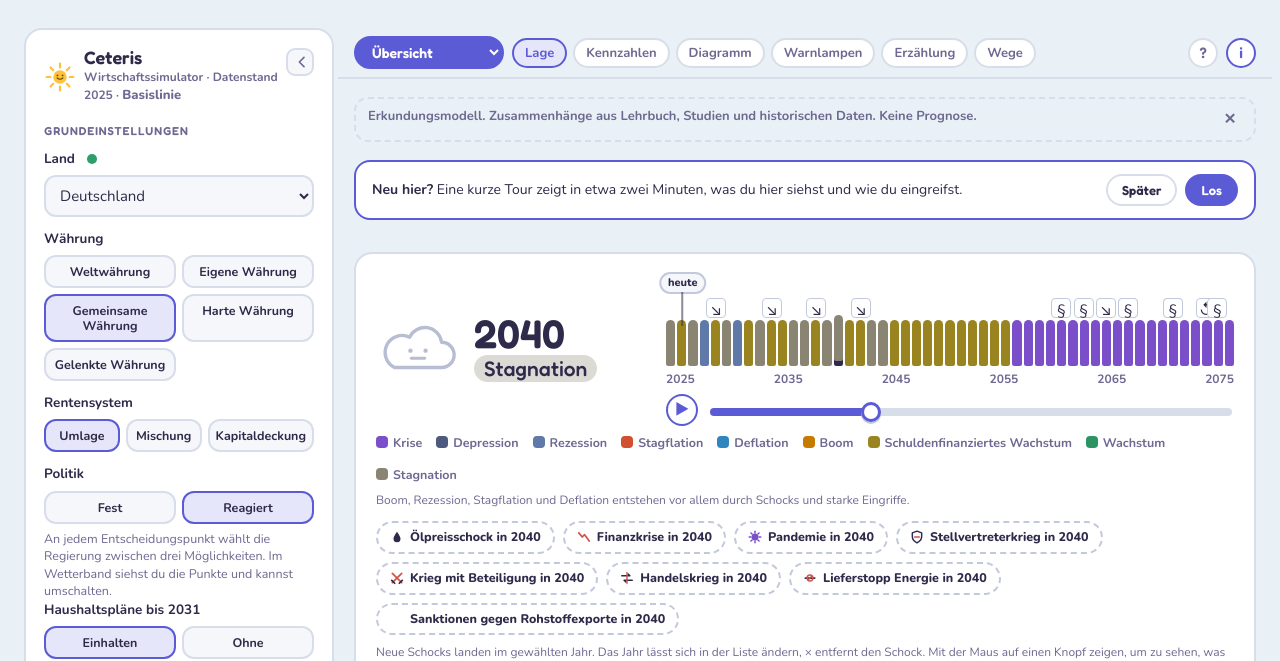
Update 2 in der Oberfläche › Italien zeigt den Hinweis, der Wechsel weg lässt ihn verschwinden
The image size is (1280, 661).
Select "Italien" in the dropdown labelled "Land" at (179, 196), box [44,175,314,217]
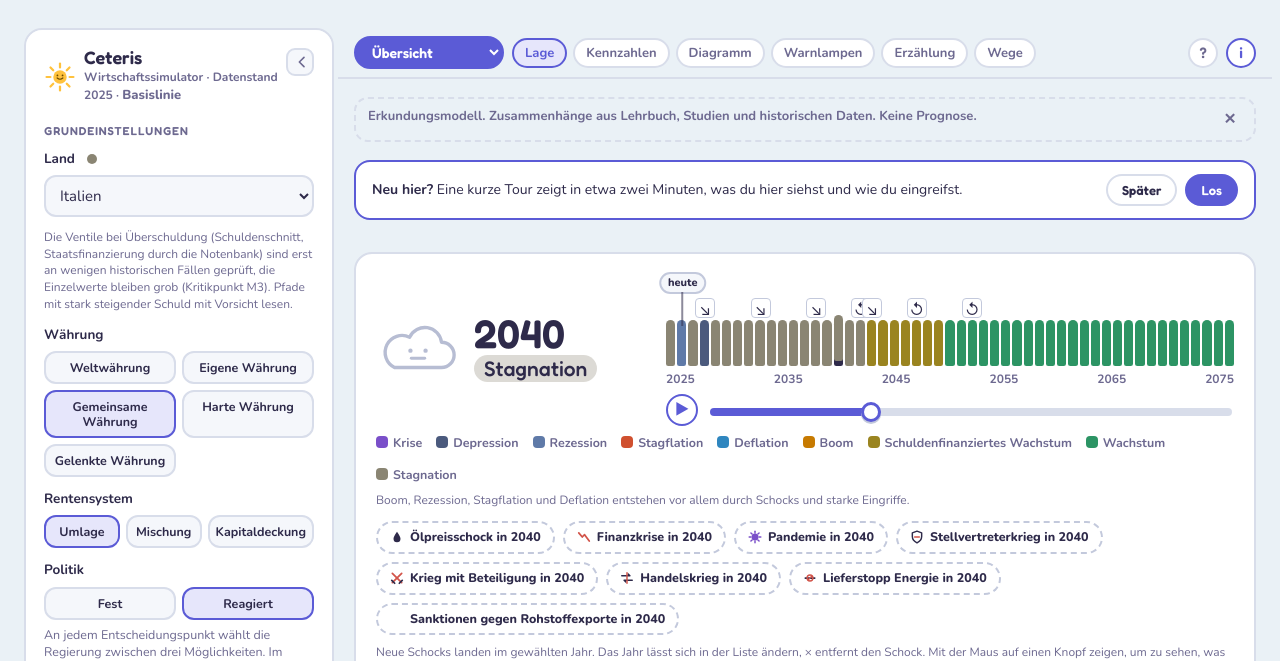
Expected: the radio button "Gemeinsame Währung" is shown, [44,390,176,438]
Expected: the text "erst an wenigen historischen Fällen geprüft" is shown, [44,229,312,312]
Select "Vereinigtes Königreich" in the dropdown labelled "Land" at (179, 196), box [44,175,314,217]
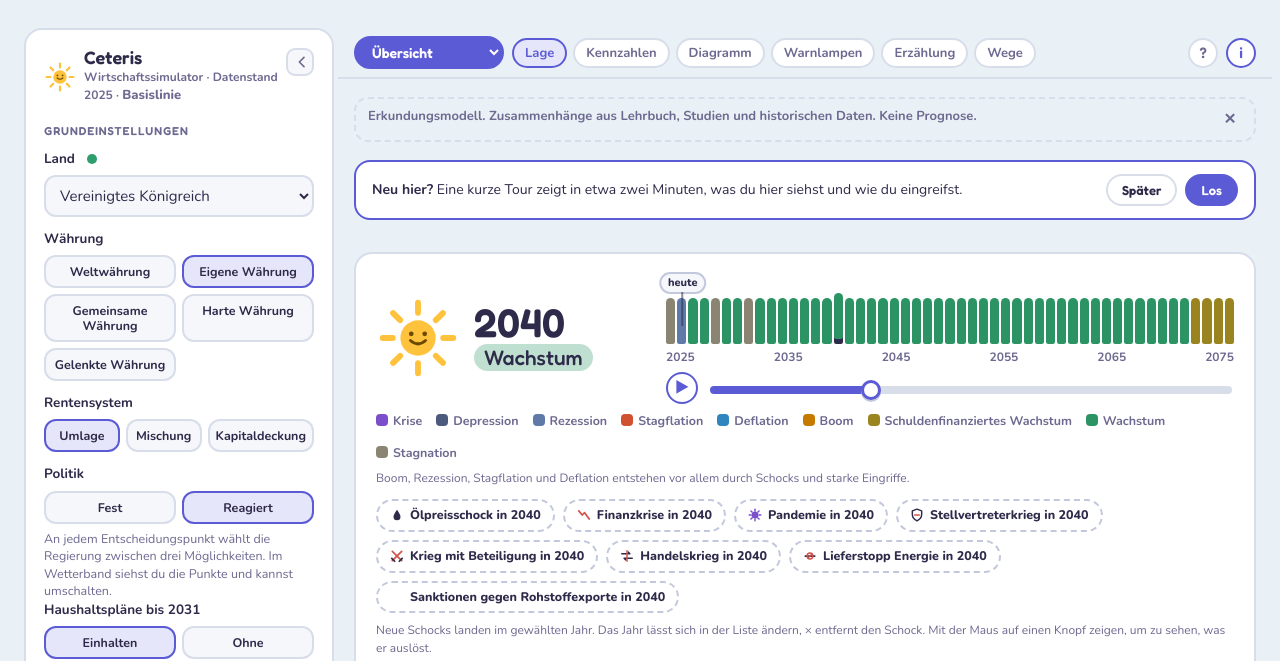
Expected: the text "erst an wenigen historischen Fällen geprüft" is gone
